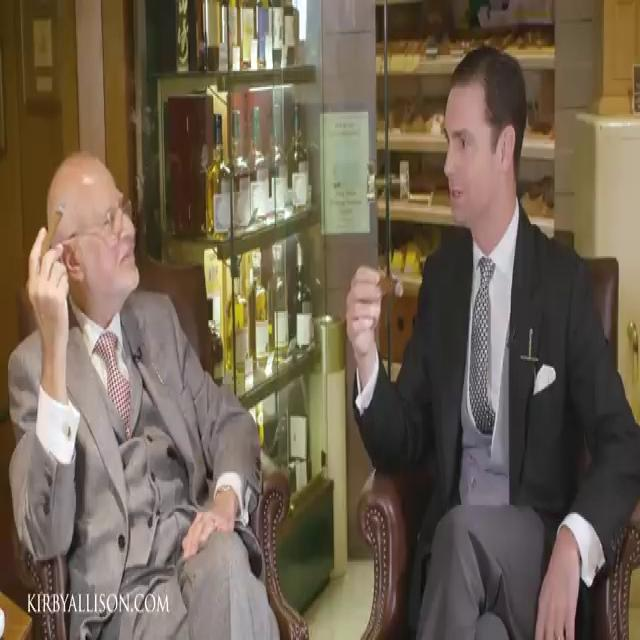Smooking: (42, 198, 66, 268), (376, 276, 414, 309)
